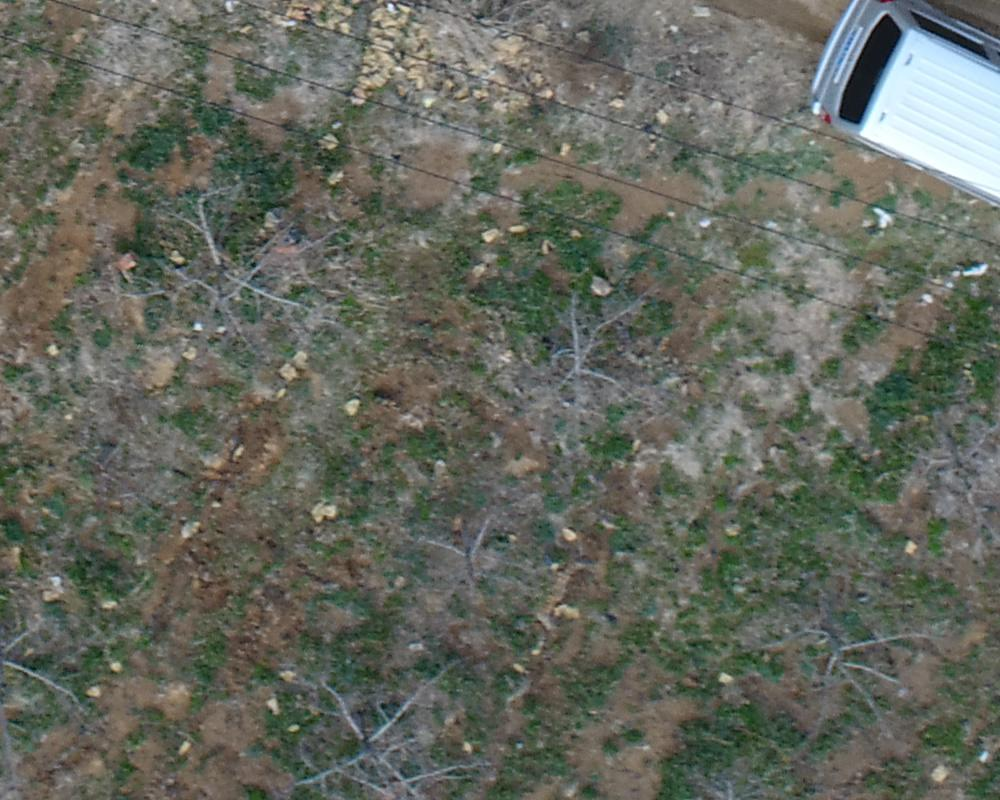apple: (144, 162, 340, 342), (258, 650, 507, 790), (511, 279, 678, 442), (771, 598, 951, 733), (406, 499, 582, 631), (859, 374, 990, 535), (10, 574, 105, 757)
